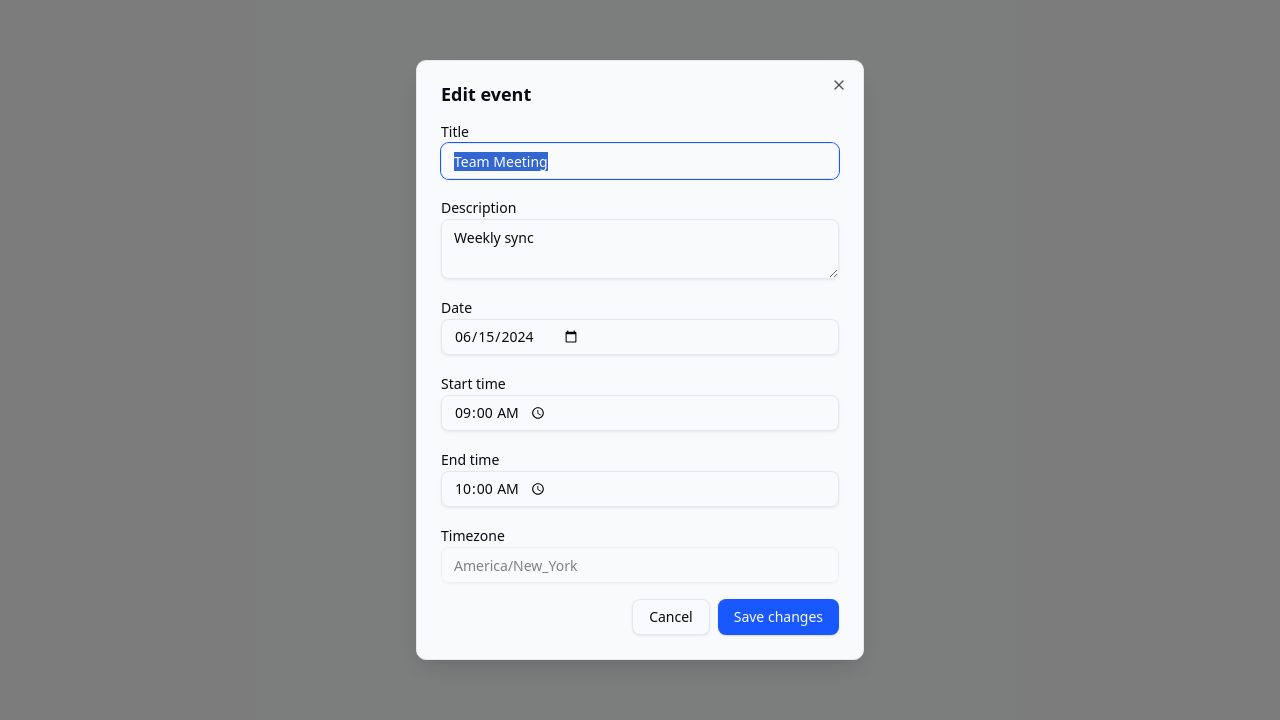
Test: EditEventDialog › validation › shows error when end time is before start time
Replace the text in the time field with test id "edit-event-start-time" with "14:00" at (640, 413), box [441,395,839,431]
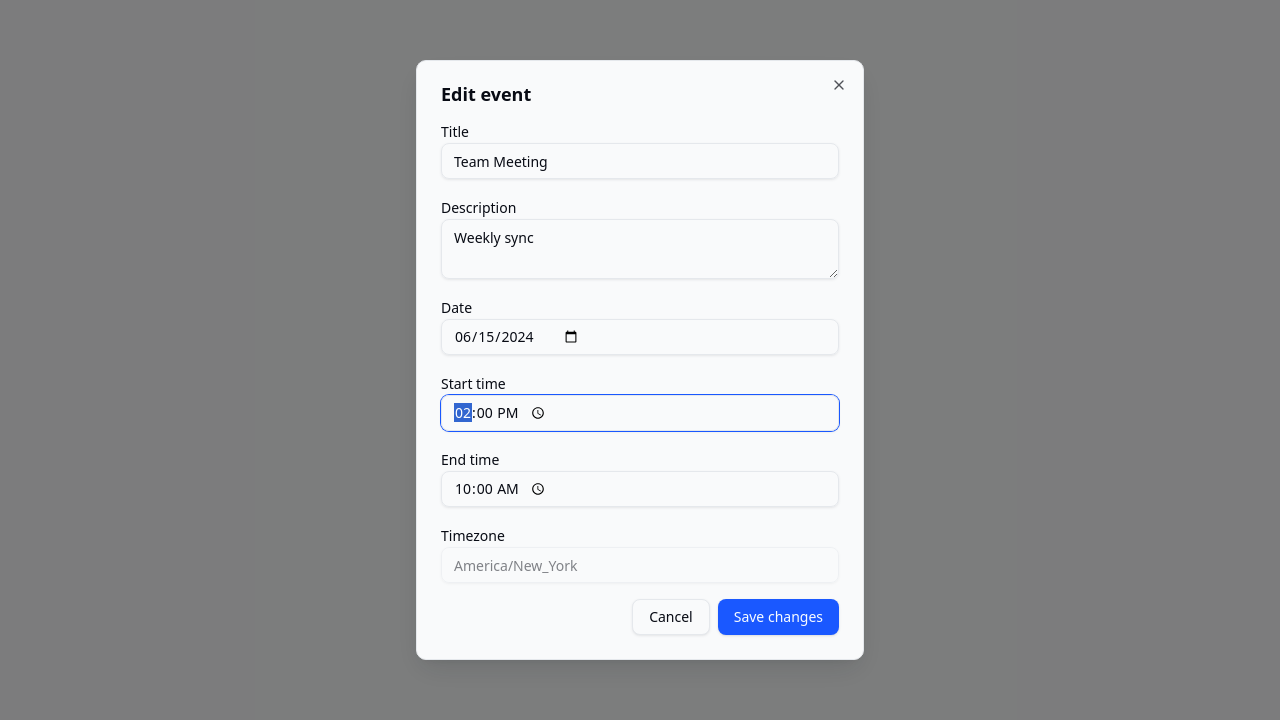
Replace the text in the time field with test id "edit-event-end-time" with "09:00" at (640, 489), box [441,471,839,507]
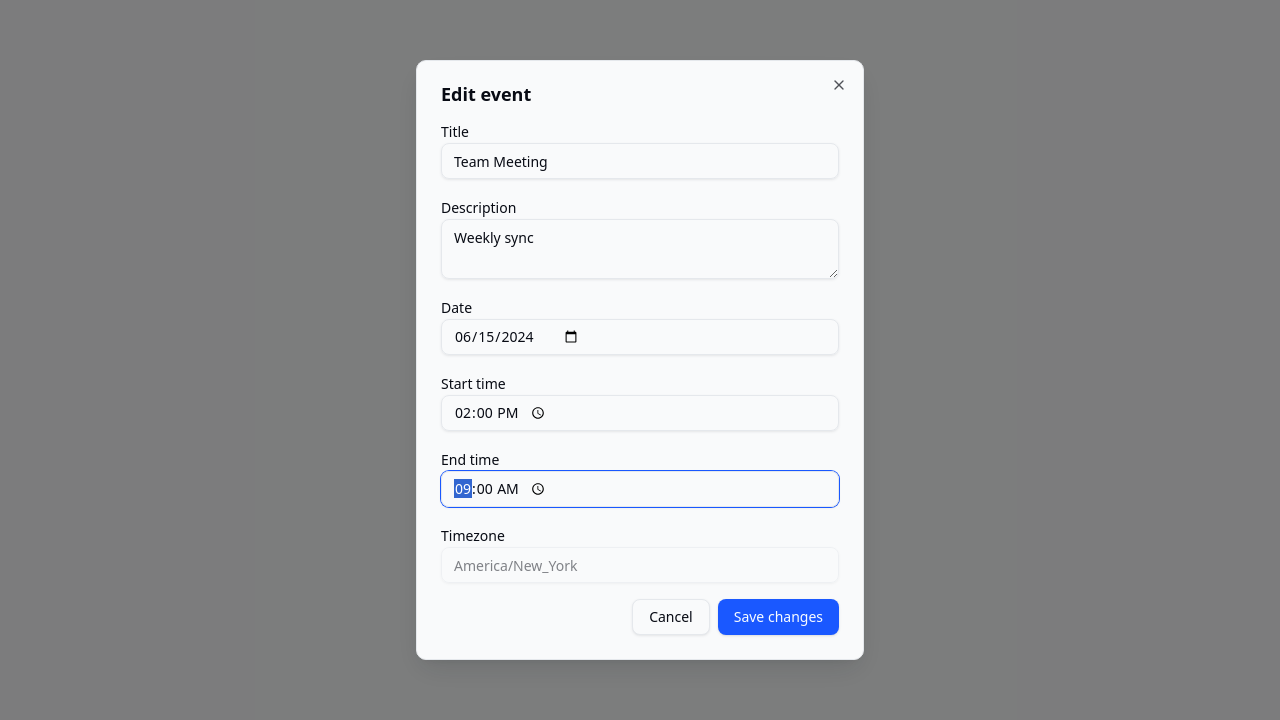
Click the button with test id "edit-event-submit" at (778, 617), box [718,599,839,635]
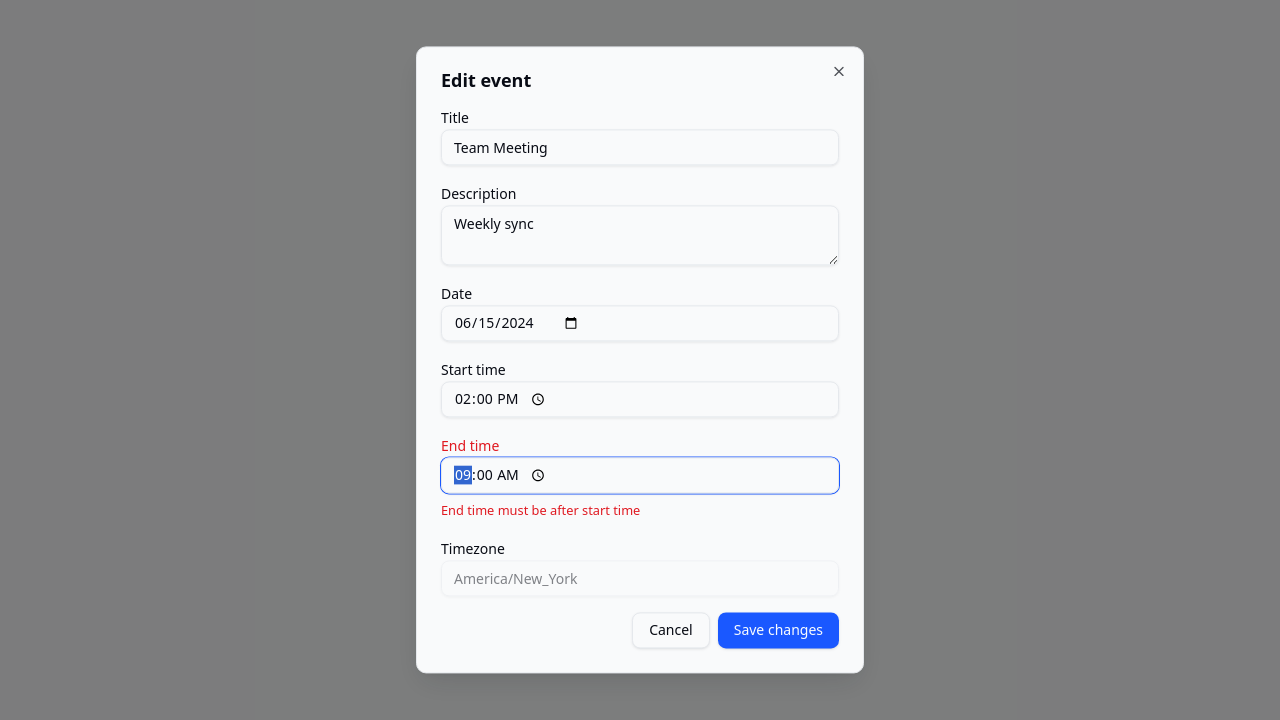
Expected: the text "End time must be after start time" is shown, [441,501,640,519]
